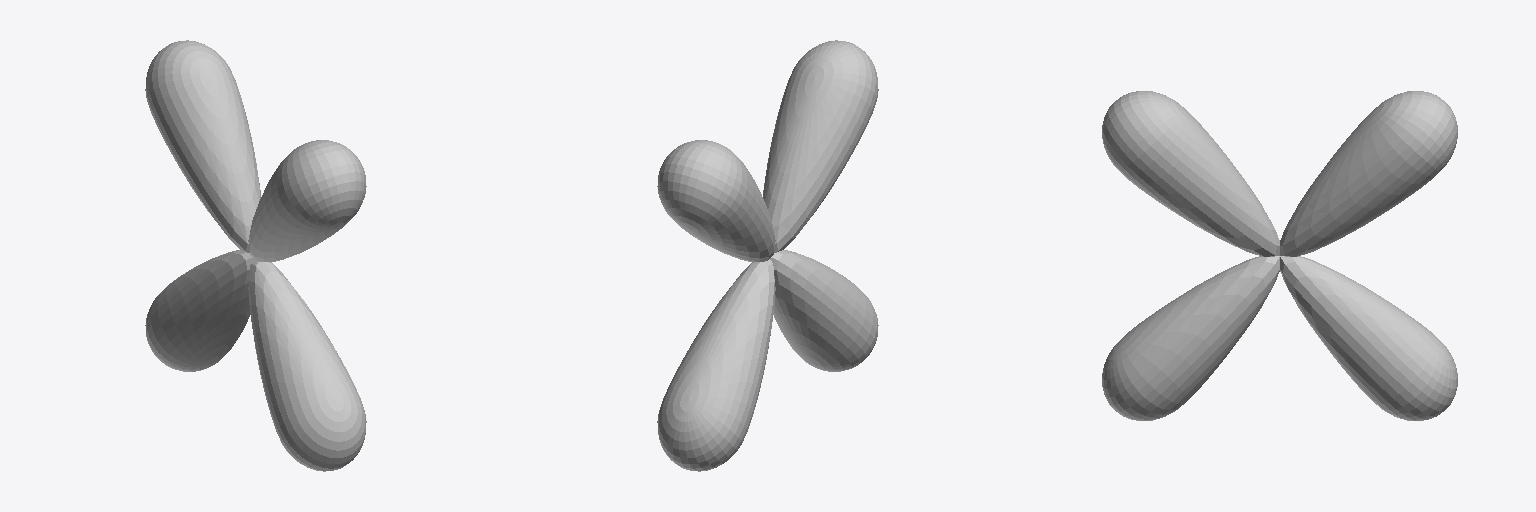
3 views of the same model, side by side, from view 1: azimuth 30°, elevation 25°; view 2: azimuth 150°, elevation 25°; view 3: azimuth 270°, elevation 25° (orthographic).
Visible parts, largest first — view 1: dz.001, dx.001; view 2: dx.001, dz.001; view 3: dx.001, dz.001.
Boxes of the visible parts, <box> form: dz.001: <box>145,40,366,471</box>; dx.001: <box>145,140,366,371</box>; dx.001: <box>657,40,878,471</box>; dz.001: <box>657,140,878,371</box>; dx.001: <box>1102,91,1457,420</box>; dz.001: <box>1102,91,1457,420</box>.
Bounding box in the file's own units: 8.21 × 32.2 × 32.2.